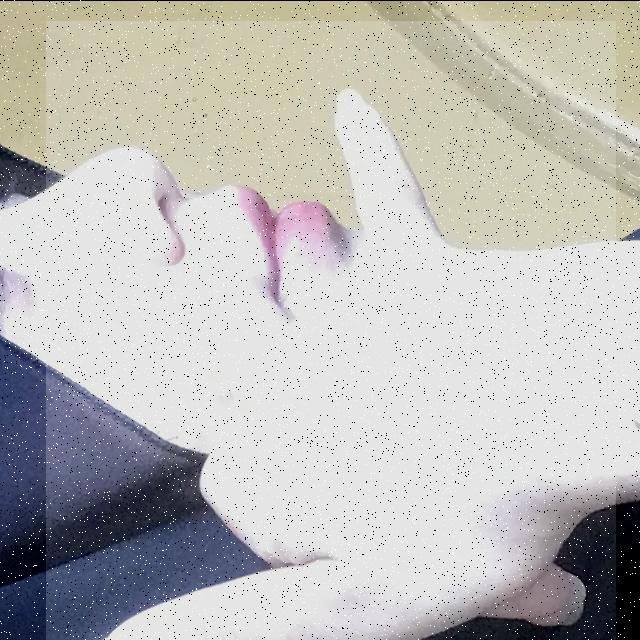telpon: (46, 20, 616, 640)
